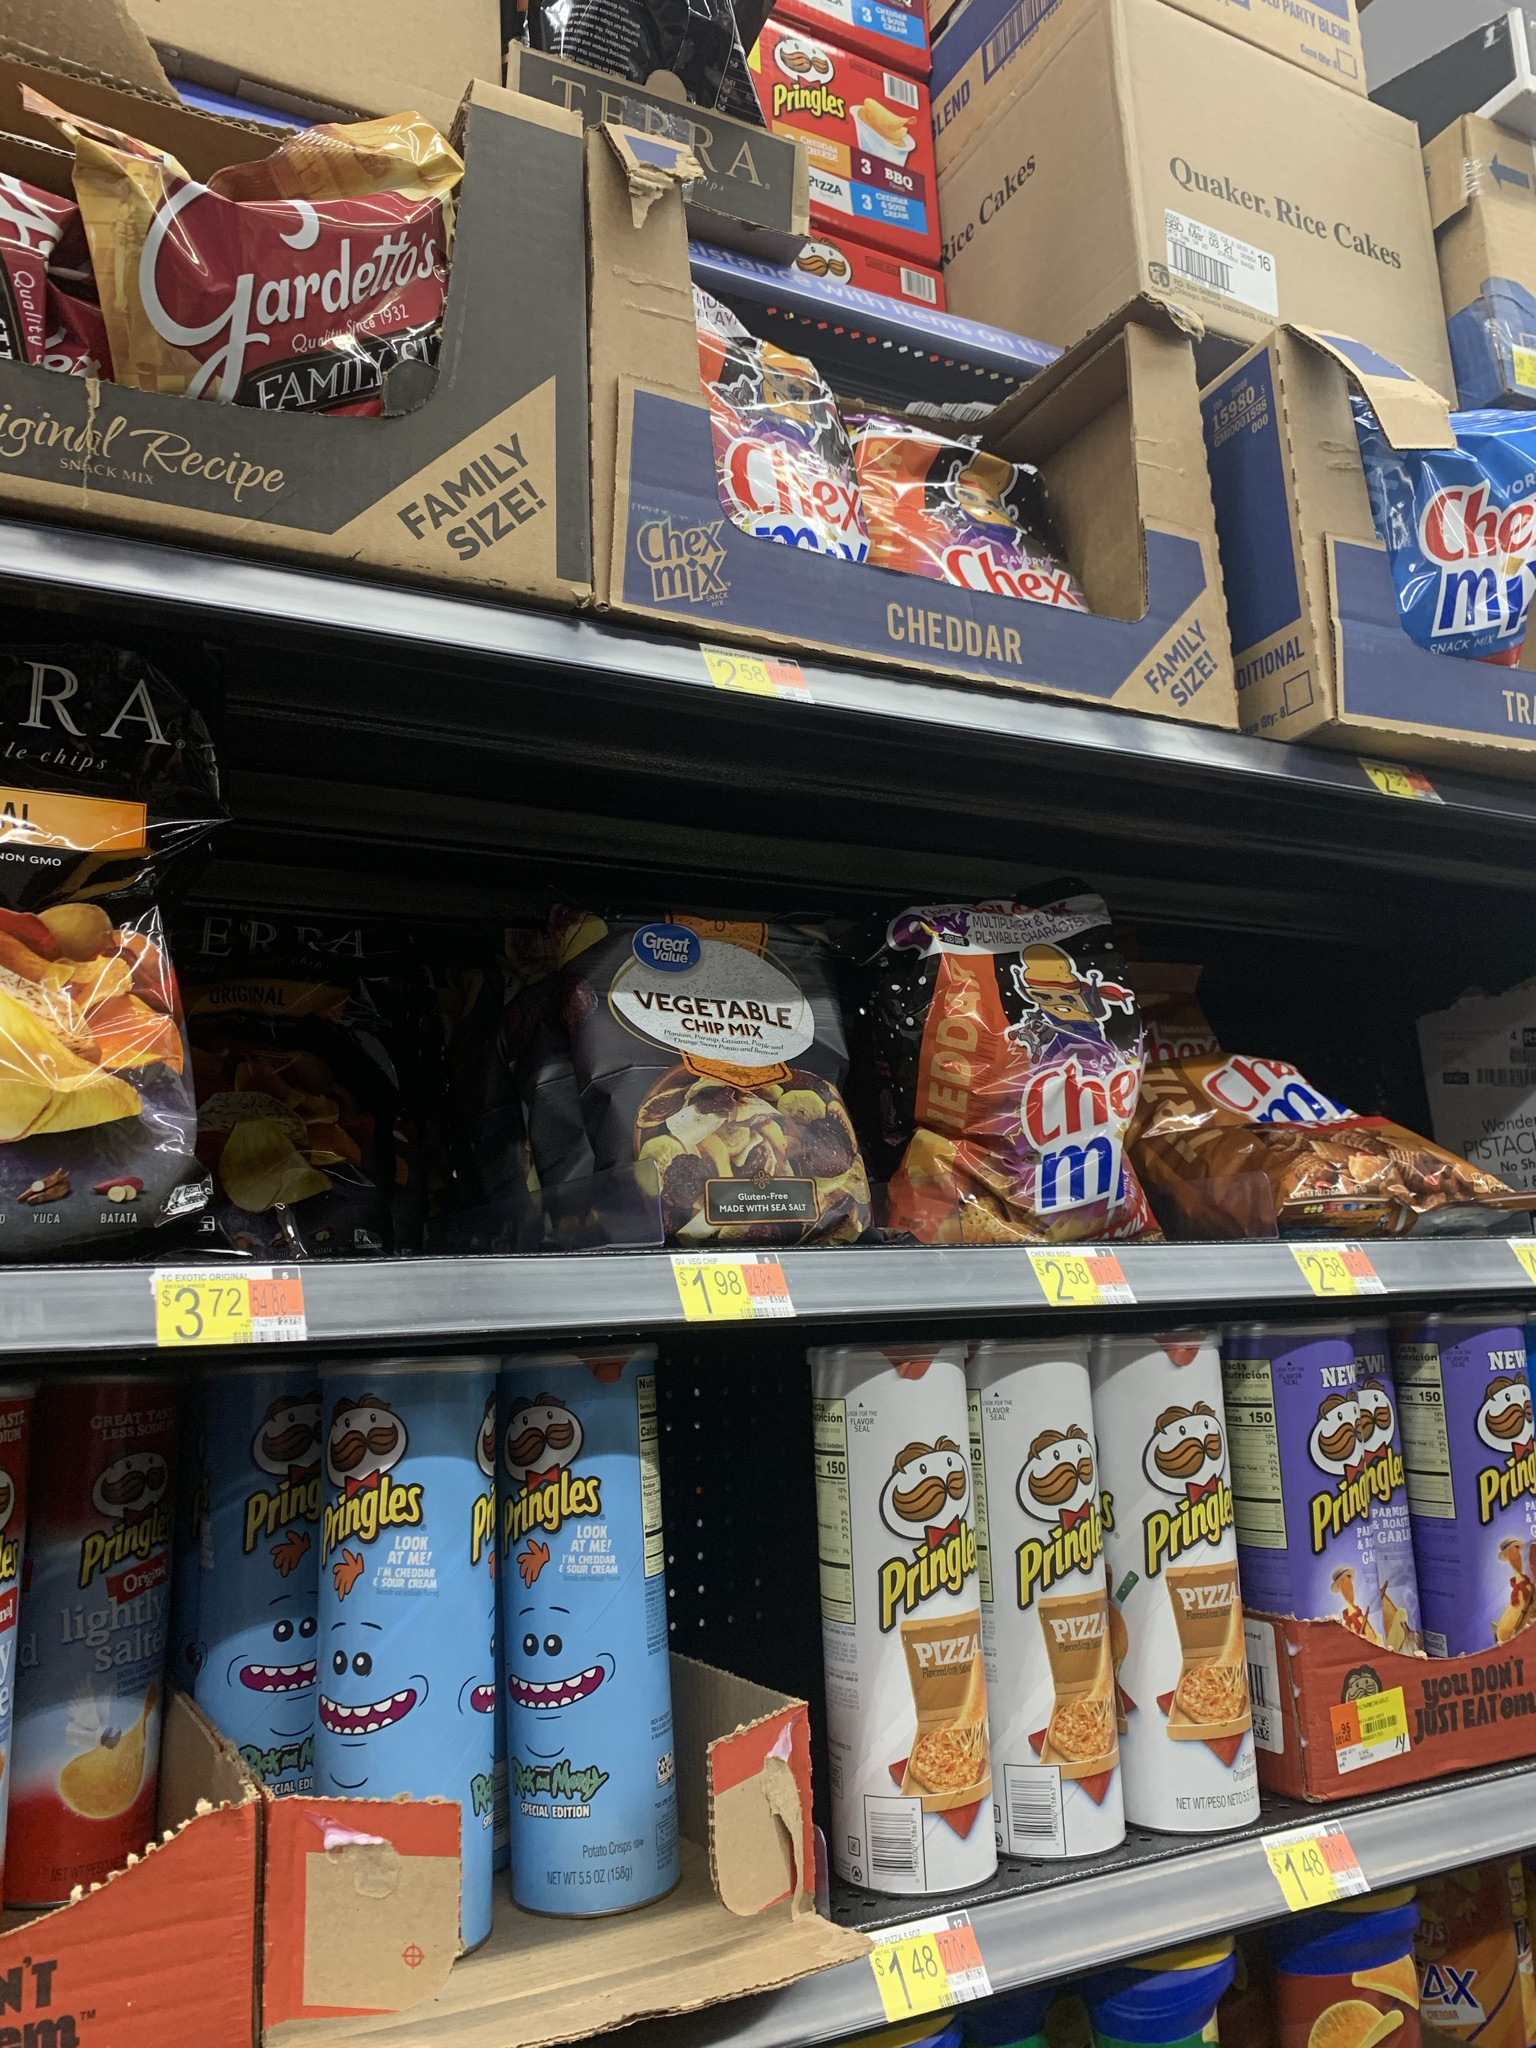Chips: (487, 1335, 679, 1924), (812, 1335, 1004, 1888), (574, 892, 860, 1251), (1089, 1321, 1271, 1837), (978, 1335, 1121, 1867), (318, 1343, 466, 1816), (1275, 1306, 1425, 1651)
